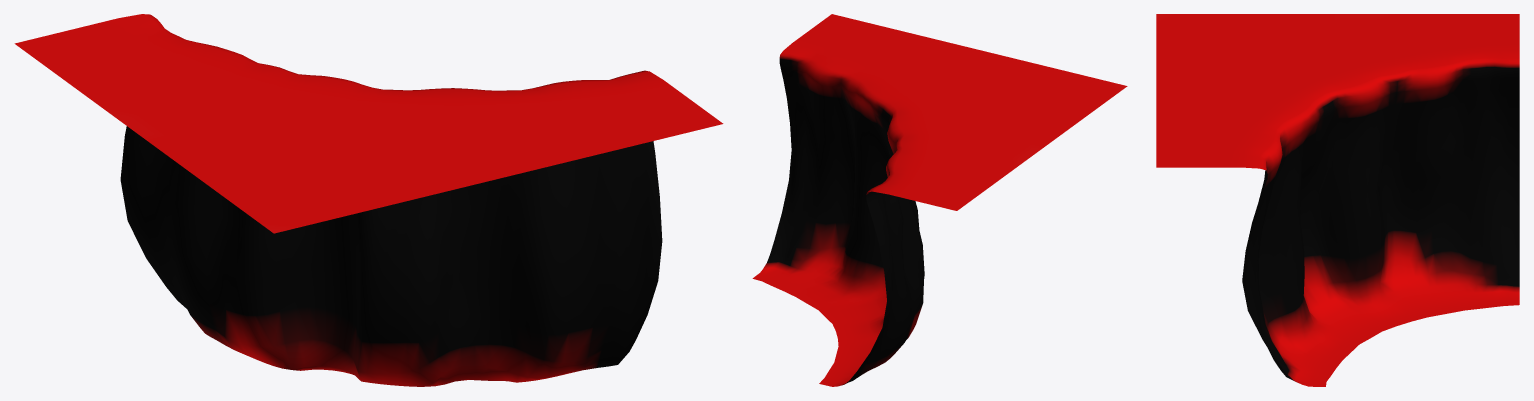
File: GroundCliff04D 2M Foreground.fbx
3 views of the same model, side by side, from view 1: azimuth 30°, elevation 25°; view 2: azimuth 150°, elevation 25°; view 3: azimuth 270°, elevation 25° (orthographic). The views are drawn at different scales.
Visible parts, largest first — view 1: GroundCliff04D 2M Foreground; view 2: GroundCliff04D 2M Foreground; view 3: GroundCliff04D 2M Foreground.
Boxes of the visible parts, left/top/right/bottom form: GroundCliff04D 2M Foreground: left=14, top=14, right=723, bottom=386; GroundCliff04D 2M Foreground: left=752, top=14, right=1127, bottom=386; GroundCliff04D 2M Foreground: left=1156, top=14, right=1519, bottom=386.
Size of the model in its own units: 3 by 2 by 3.
